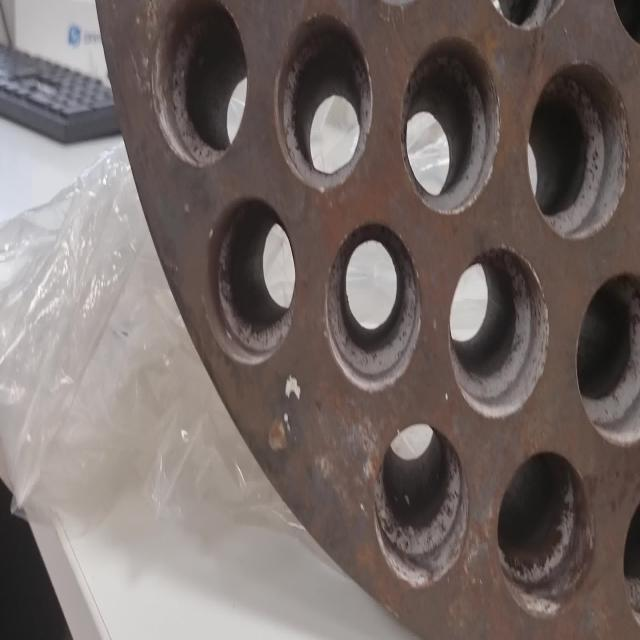Hole: (526, 59, 630, 240), (402, 34, 501, 215), (275, 11, 374, 191), (449, 244, 550, 420), (323, 218, 422, 392), (496, 449, 596, 618), (152, 0, 248, 168), (372, 422, 469, 588), (207, 193, 296, 365), (575, 272, 640, 446)
